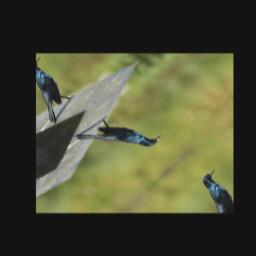Crow: (73, 102, 164, 172)
